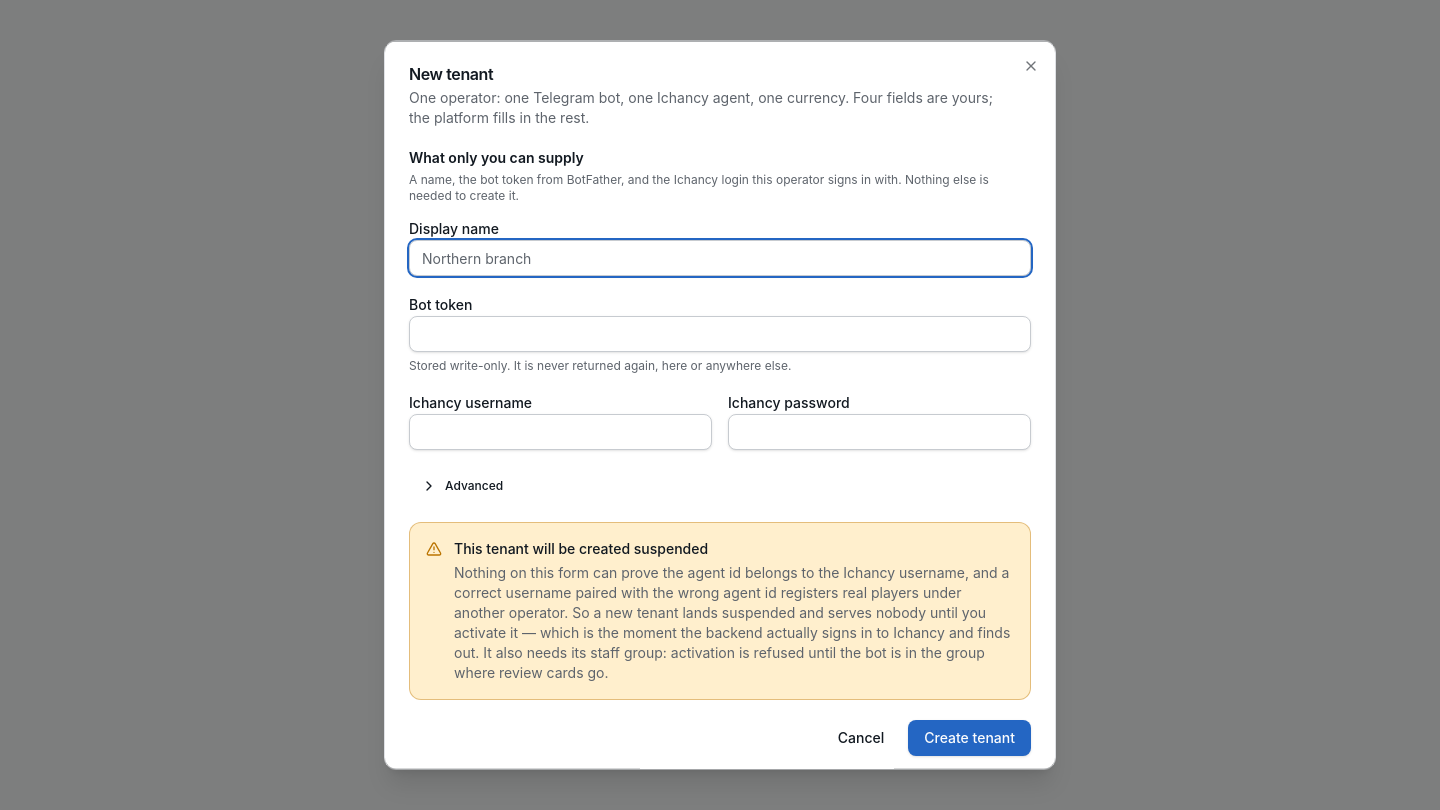
TenantFormDialog — create › says what each hidden field would default to, once Advanced is opened
The width and height of the screenshot is (1440, 810).
What coordinates should you click on to do the following:
click the button "Advanced"
I would click on:
 (462, 486)
Its box is [409, 470, 515, 502].
(page scrolled)
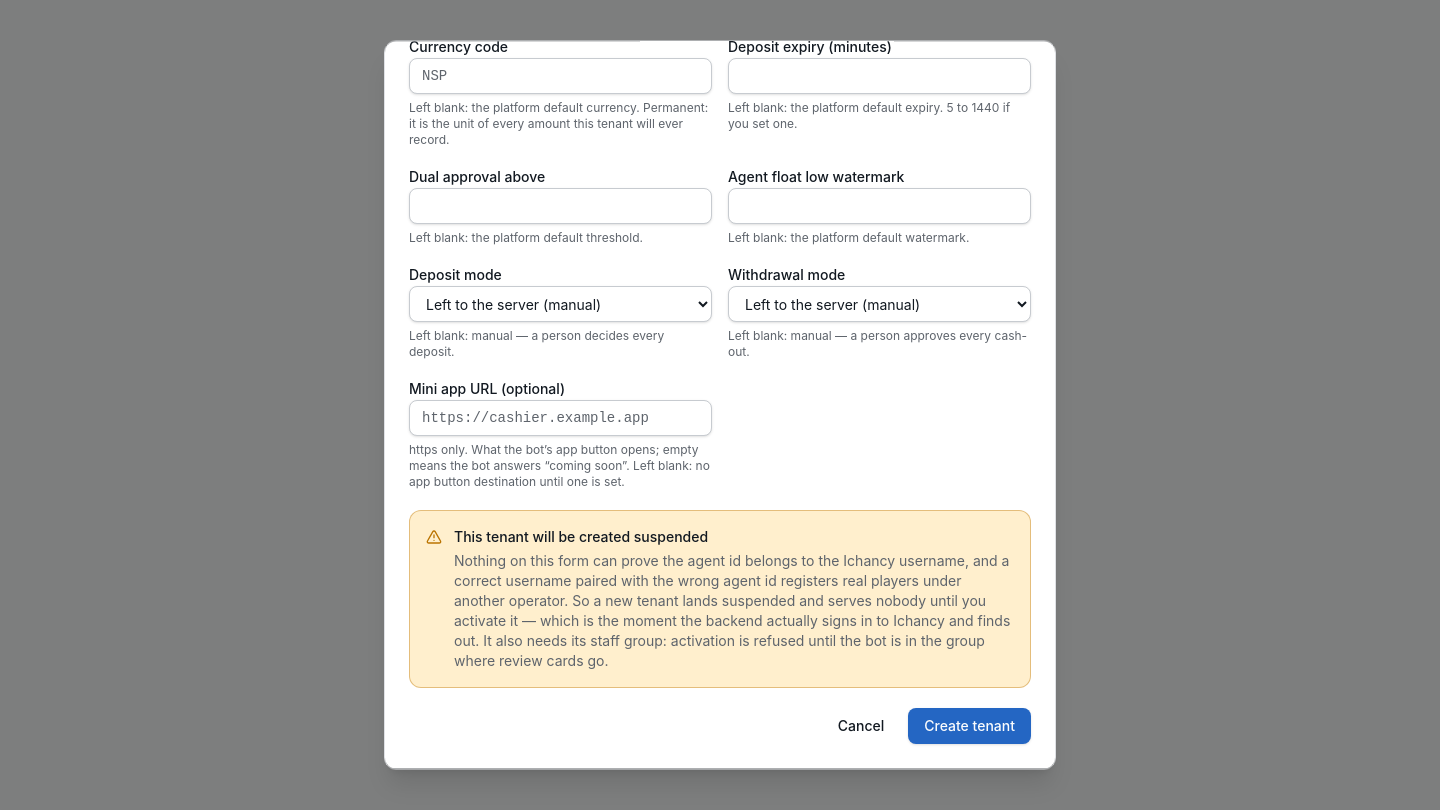
Now the field labelled "Currency code" is shown, box [409, 58, 712, 94]
Now the field labelled "Dual approval above" is shown, box [409, 188, 712, 224]
Now the field labelled "Agent float low watermark" is shown, box [728, 188, 1031, 224]
